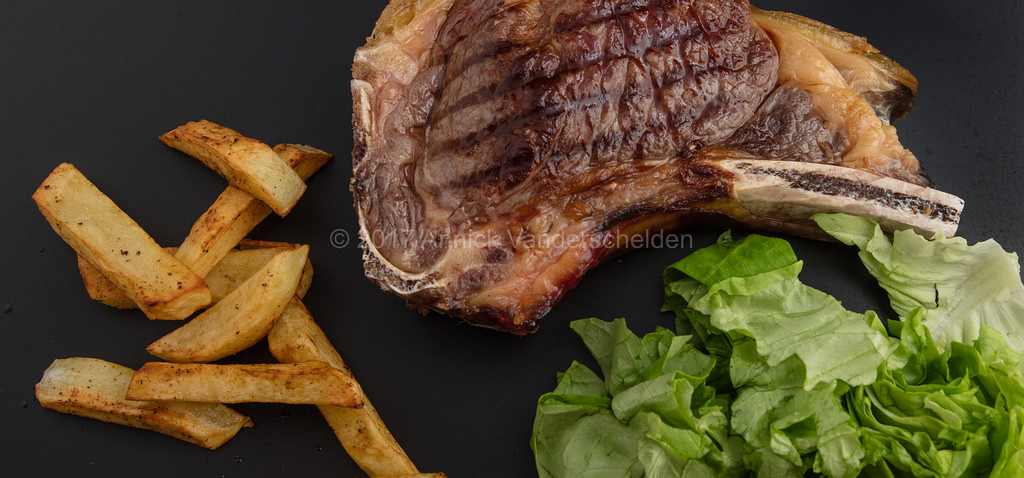chopped lettuce: (675, 300, 963, 462)
